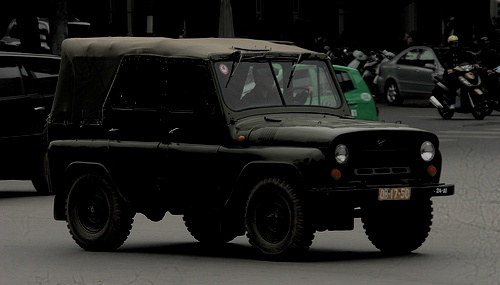plate: (376, 183, 412, 202)
